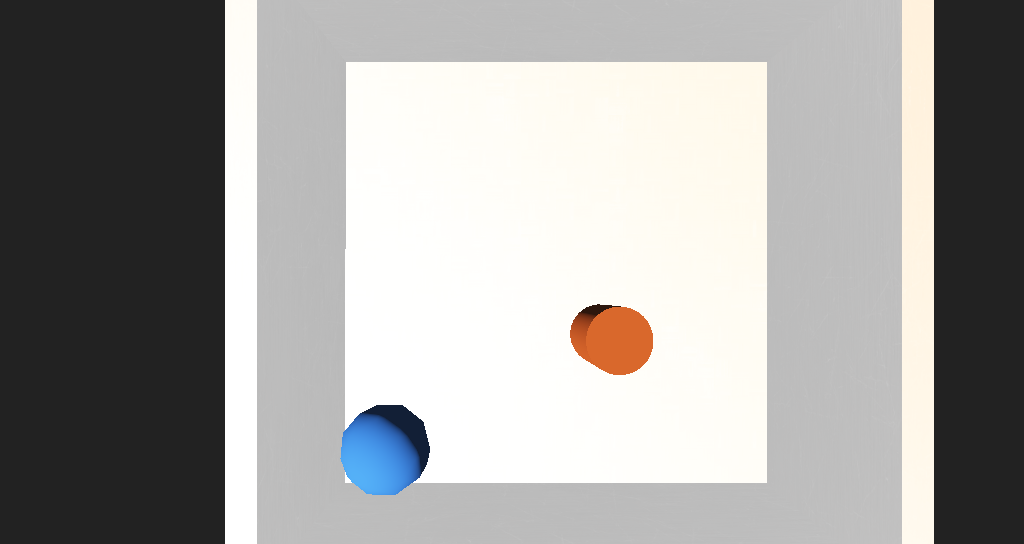cone: (512, 282, 566, 320)
cylinder: (519, 394, 667, 532)
sphere: (350, 336, 418, 379)
